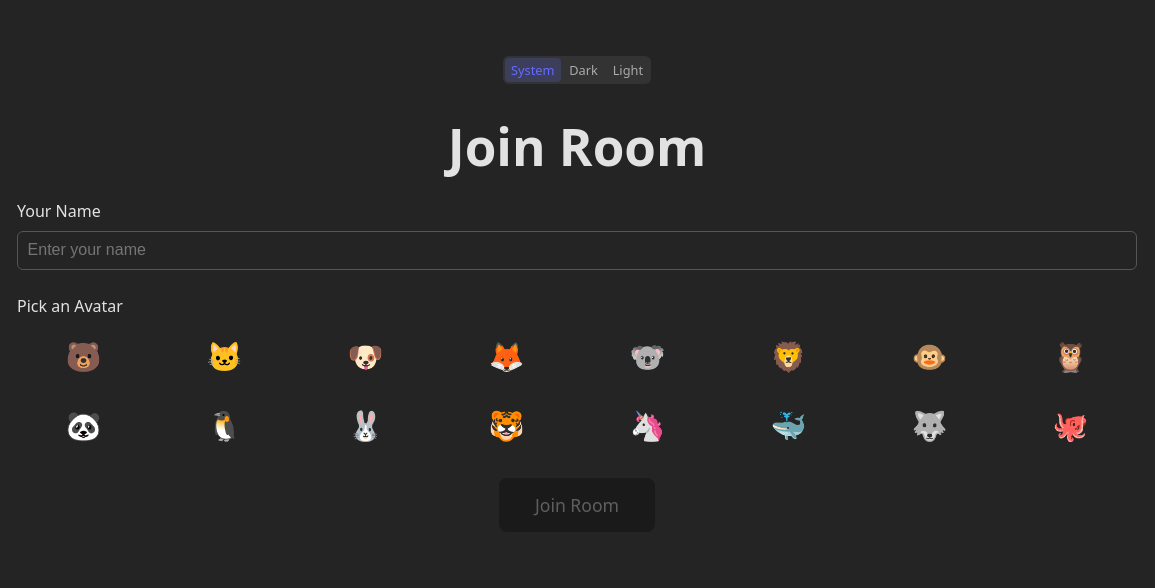
Test: JoinPage › shows error when join fails with generic error
In the field labelled "Your Name": (577, 250) [17,231,1137,270], type "Bob"
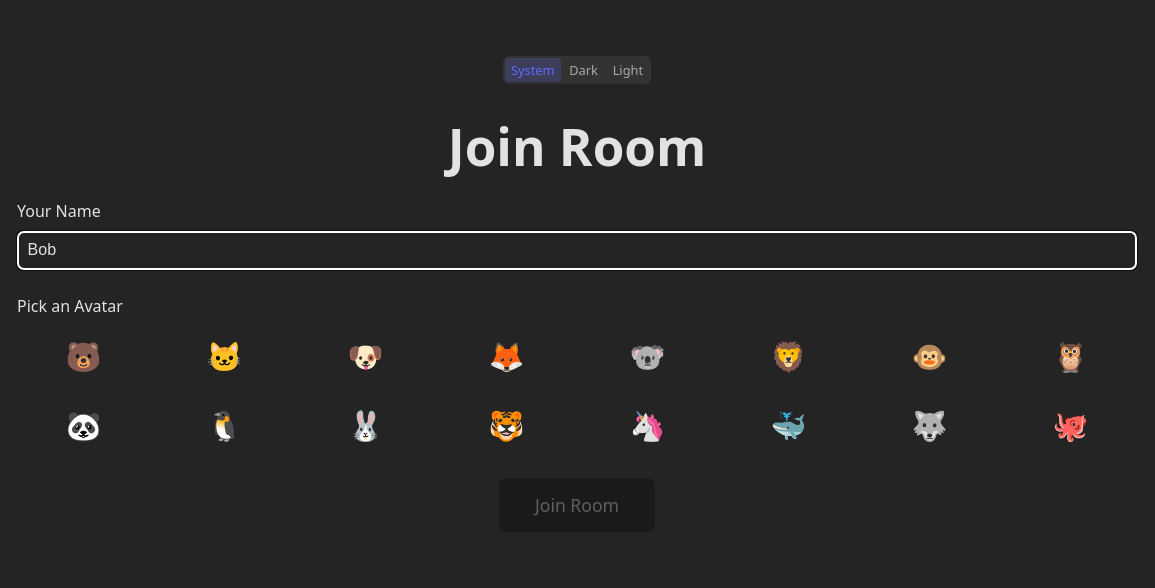
Click the radio button named "Dog": (366, 356) [299,326,432,386]
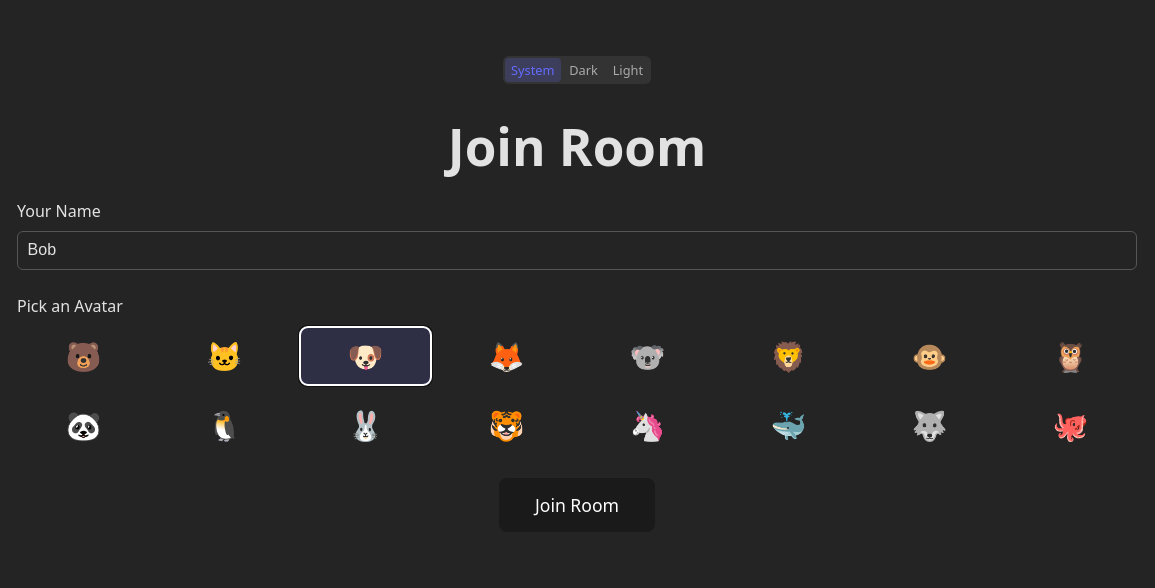
Click the button "Join Room": (577, 505) [499,478,655,532]
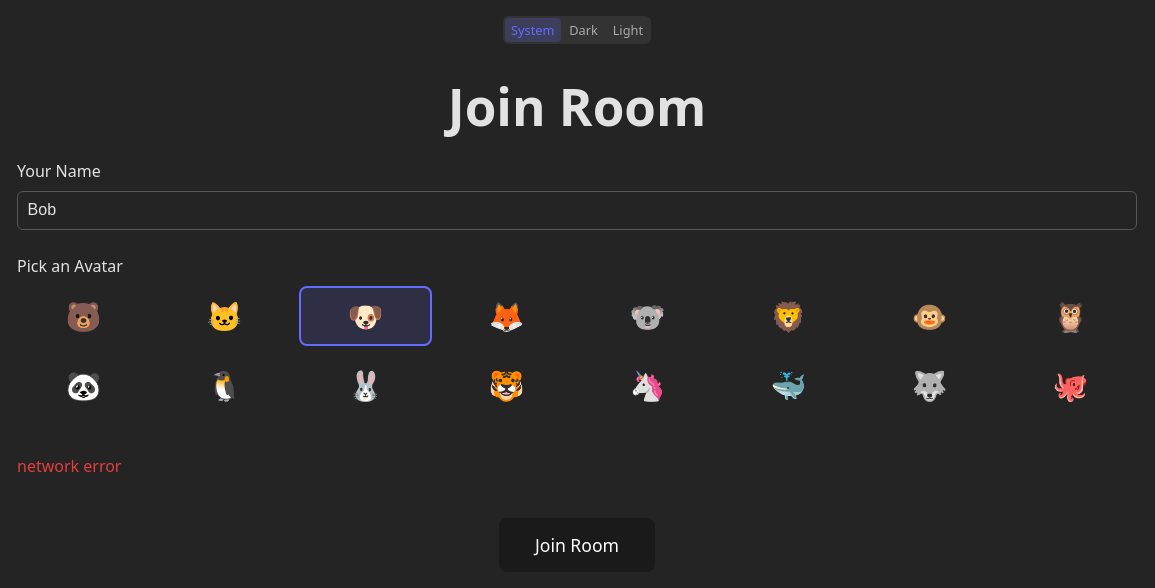
expect the text "network error" is shown: met, box [17,455,122,477]
